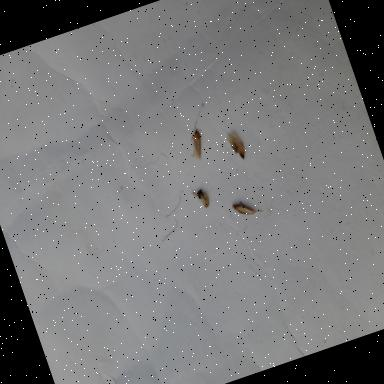pbw: (183, 128, 208, 164), (224, 129, 249, 163), (231, 195, 263, 220), (191, 186, 213, 213)
